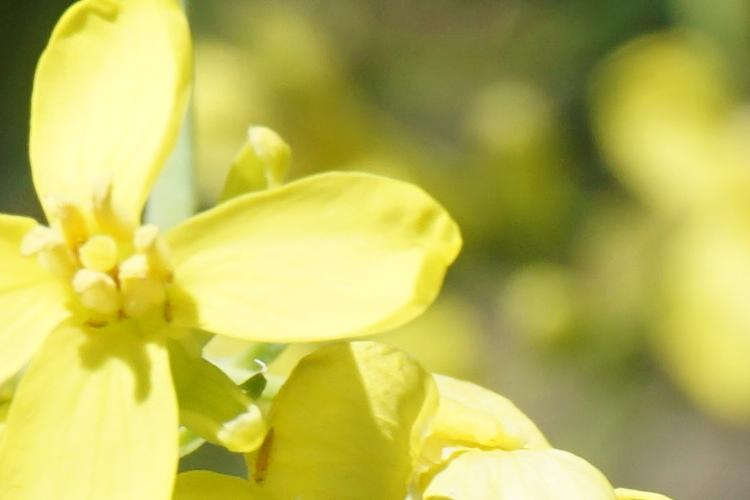yellow: (4, 7, 470, 479)
